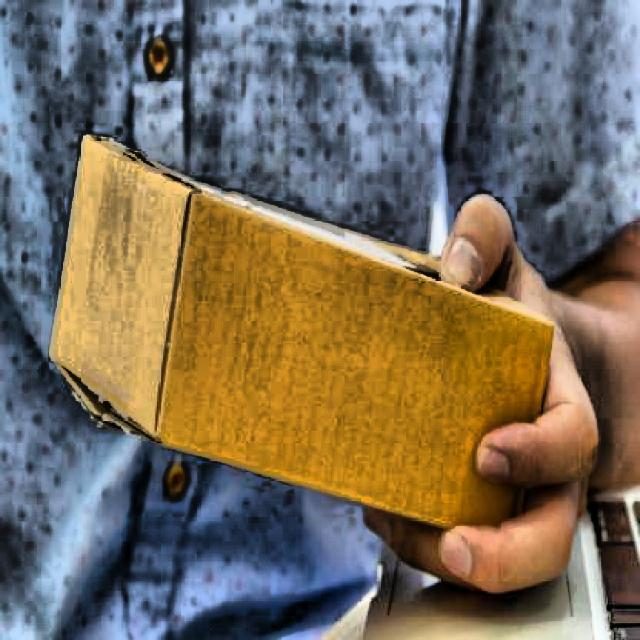Cardbox: (42, 113, 556, 552)
